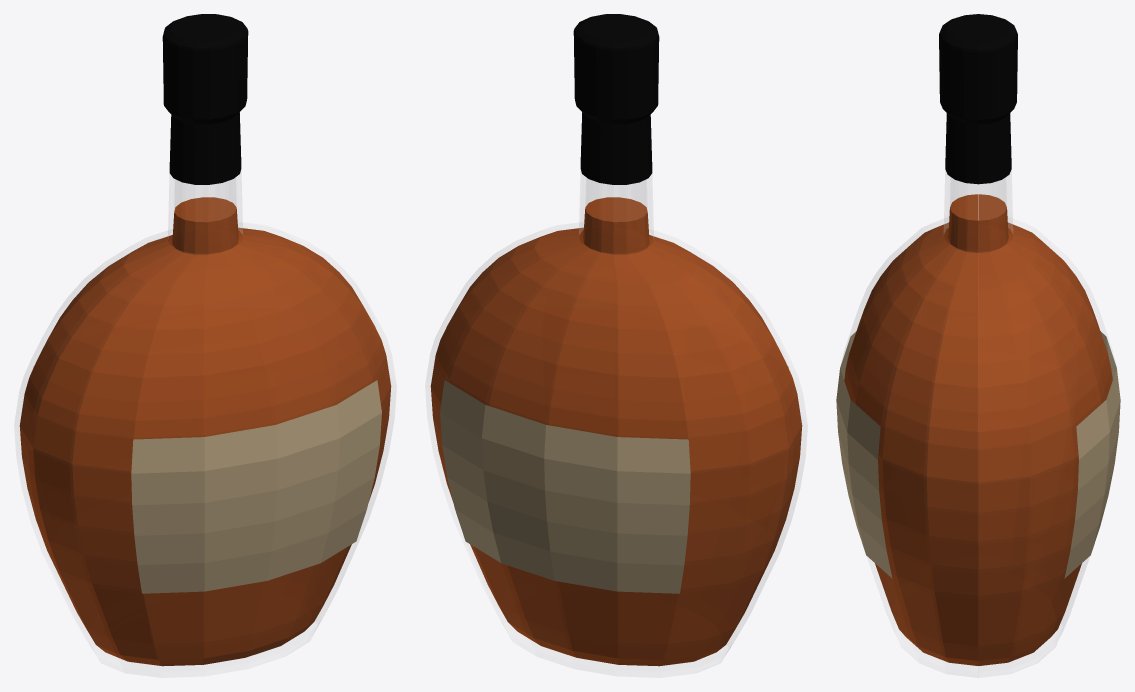
The model's file is Bottle_4.fbx.
3 renders of one model, left to right at view 1: azimuth 30°, elevation 25°; view 2: azimuth 150°, elevation 25°; view 3: azimuth 270°, elevation 25°, orthographic.
Visible parts, largest first — view 1: Bottle4.001; view 2: Bottle4.001; view 3: Bottle4.001.
Boxes of the visible parts, x1,y1,x2,y2 form: Bottle4.001: [14, 14, 396, 677]; Bottle4.001: [425, 14, 807, 677]; Bottle4.001: [836, 14, 1120, 677].
Bounding box in the file's own units: 54.24 × 89.4 × 38.35.
